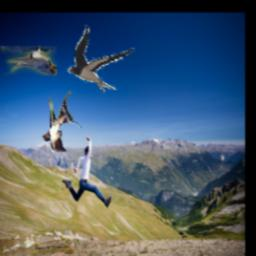Swallow: (68, 26, 135, 94), (42, 91, 81, 153), (2, 47, 58, 76)
